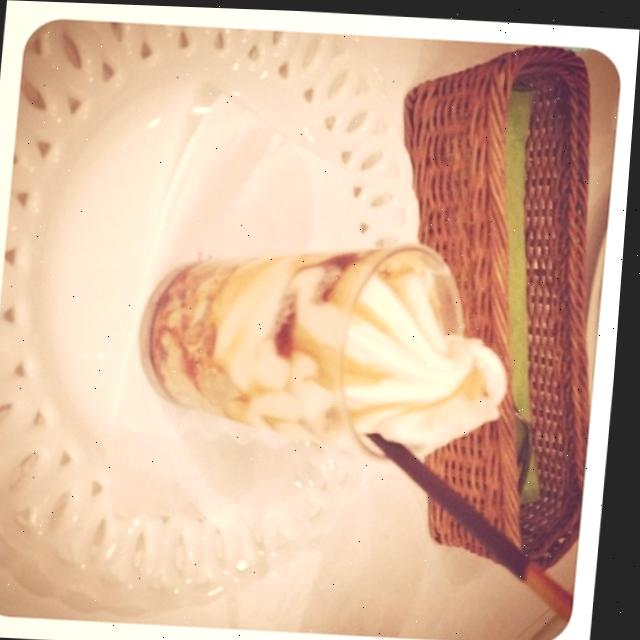蛋糕甜品: (6, 29, 537, 618)
